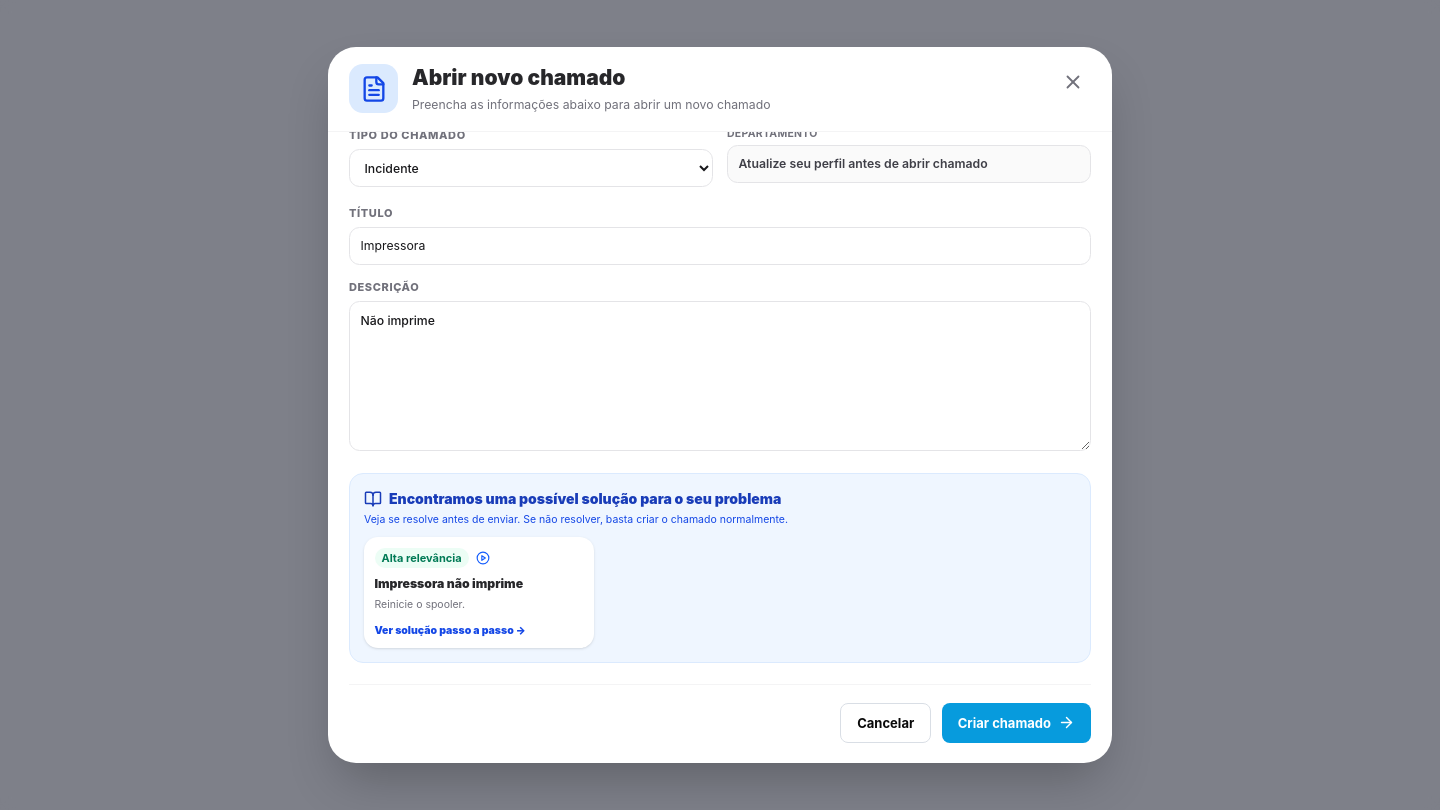
Test case: abre o artigo completo com o passo a passo
(page scrolled)
Click the button "Ver solução passo a passo →" at (479, 626), box [374,613,584,638]
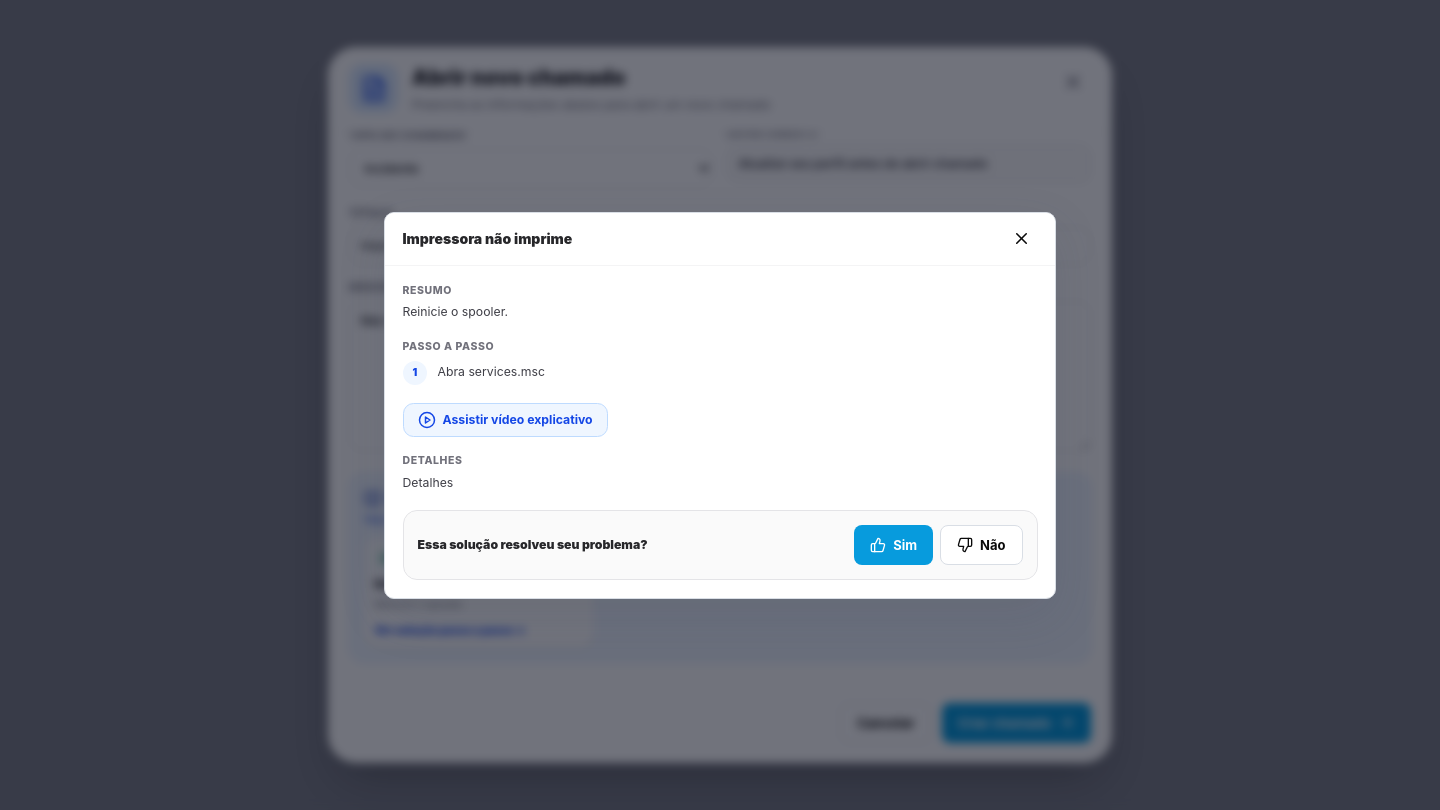
Check: the text "Abra services.msc" is shown, box [438,360,545,382]
